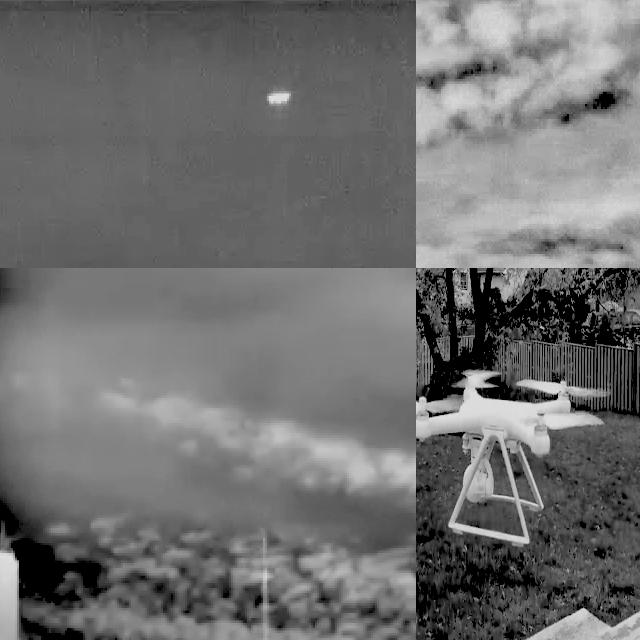1: (255, 86, 291, 114)
drone: (416, 373, 607, 552)
